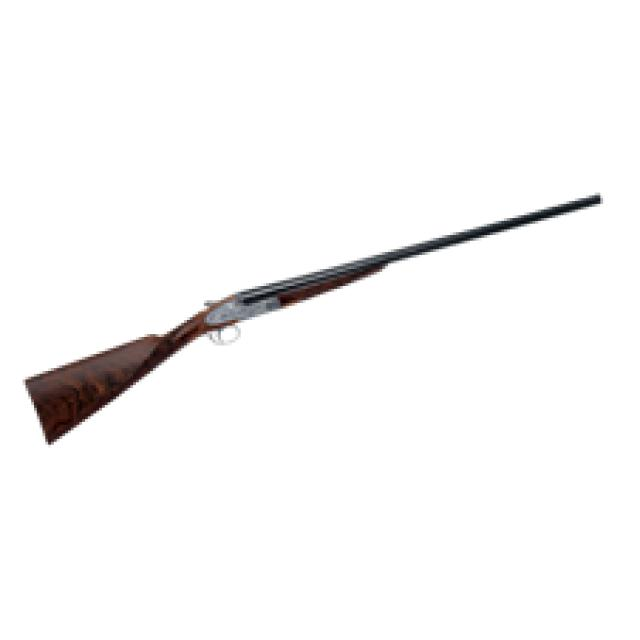rifle: (21, 191, 610, 455)
